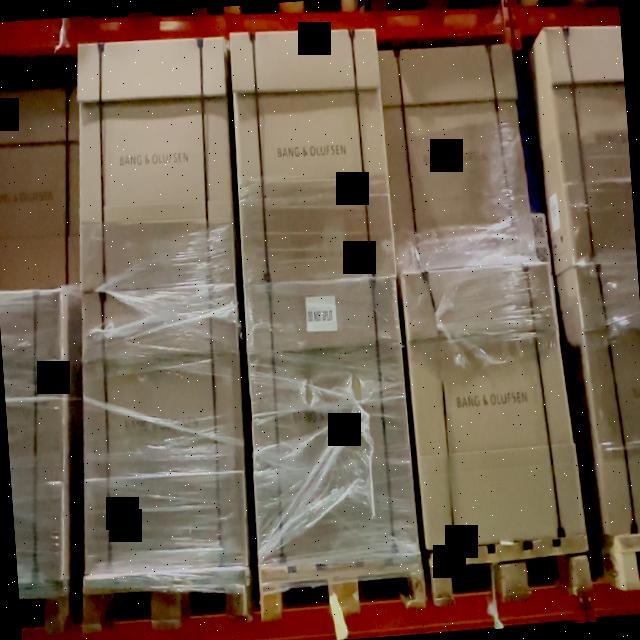box: (402, 267, 594, 553), (74, 289, 248, 570), (243, 290, 420, 562), (68, 38, 236, 282), (227, 27, 384, 272), (382, 46, 526, 252)
